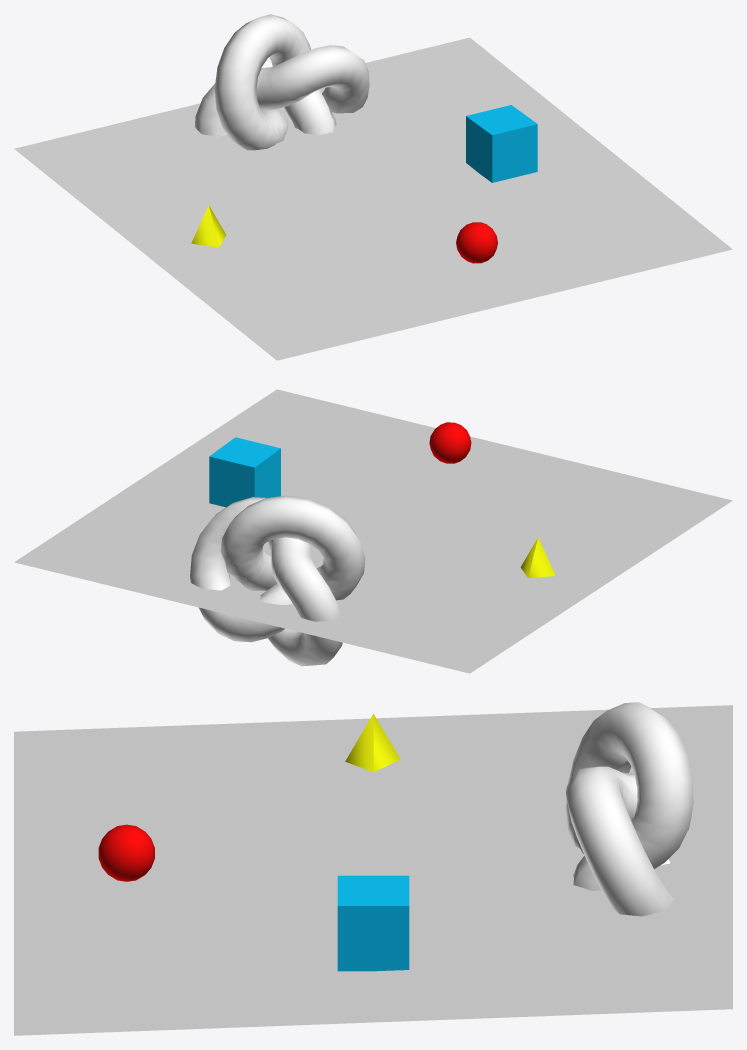
3 views of the same model, one above another, from view 1: azimuth 30°, elevation 25°; view 2: azimuth 150°, elevation 25°; view 3: azimuth 270°, elevation 25° (orthographic). The views are drawn at different scales.
Parts seen in each view (by area): view 1: Plane, TorusKnot, Box, Icosahedron, Cylinder; view 2: Plane, TorusKnot, Box, Icosahedron, Cylinder; view 3: Plane, TorusKnot, Box, Icosahedron, Cylinder.
Part boxes in pixels (x1,y1,x2,y2): Plane: (14, 37, 732, 360); TorusKnot: (194, 14, 369, 150); Box: (466, 105, 537, 182); Icosahedron: (456, 222, 497, 263); Cylinder: (191, 205, 226, 247); Plane: (14, 389, 732, 673); TorusKnot: (190, 495, 365, 666); Box: (209, 437, 280, 507); Icosahedron: (429, 422, 471, 463); Cylinder: (520, 537, 555, 578); Plane: (14, 705, 732, 1035); TorusKnot: (565, 702, 693, 916); Box: (337, 875, 409, 971); Icosahedron: (98, 824, 154, 881); Cylinder: (345, 713, 400, 772).
Bounding box in the file's own units: 10 × 3.6 × 9.99.
